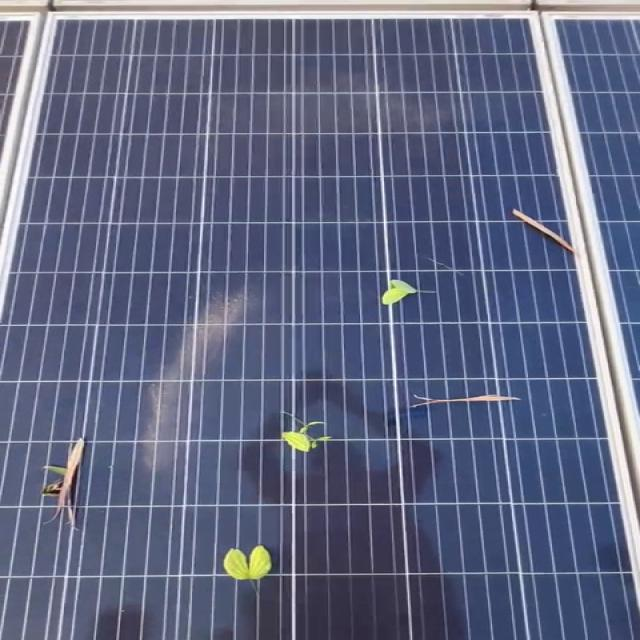dust_partical: (105, 284, 232, 444), (308, 72, 468, 127)
old_leaf: (423, 383, 522, 442), (505, 194, 590, 262), (40, 439, 98, 526), (372, 274, 442, 324), (208, 542, 274, 590), (282, 426, 338, 463)
